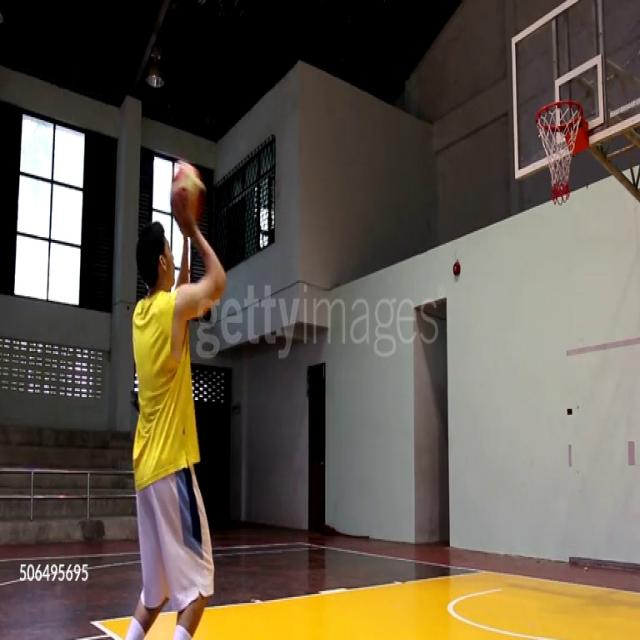ball: (171, 160, 206, 224)
